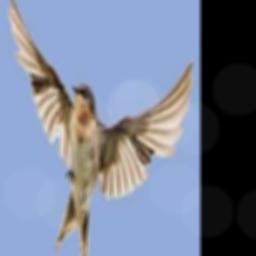Swallow: (9, 0, 194, 256)
